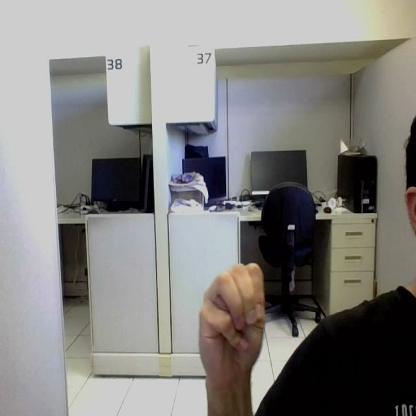M: (198, 262, 266, 378)
